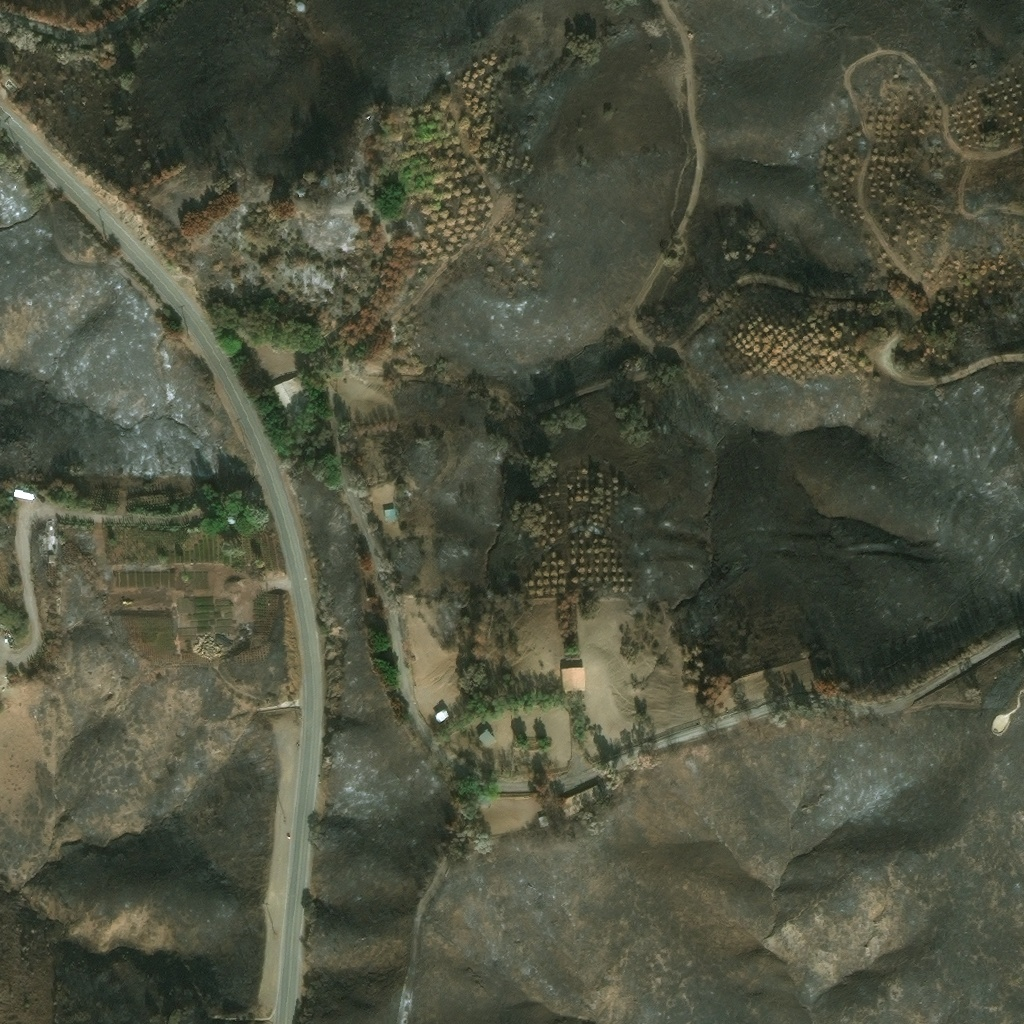0 no-damage: (260, 372, 312, 420), (554, 782, 606, 819), (561, 666, 586, 693), (477, 727, 496, 746), (433, 707, 451, 724), (536, 813, 551, 827), (383, 508, 396, 520), (295, 0, 306, 9), (226, 514, 235, 523)
2 major-damage: (41, 535, 55, 566)
3 destroyed: (732, 690, 749, 706), (337, 188, 348, 199), (346, 182, 357, 193)
